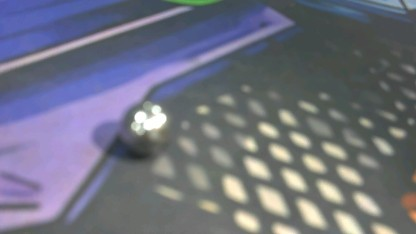ironball: (112, 99, 166, 155)
